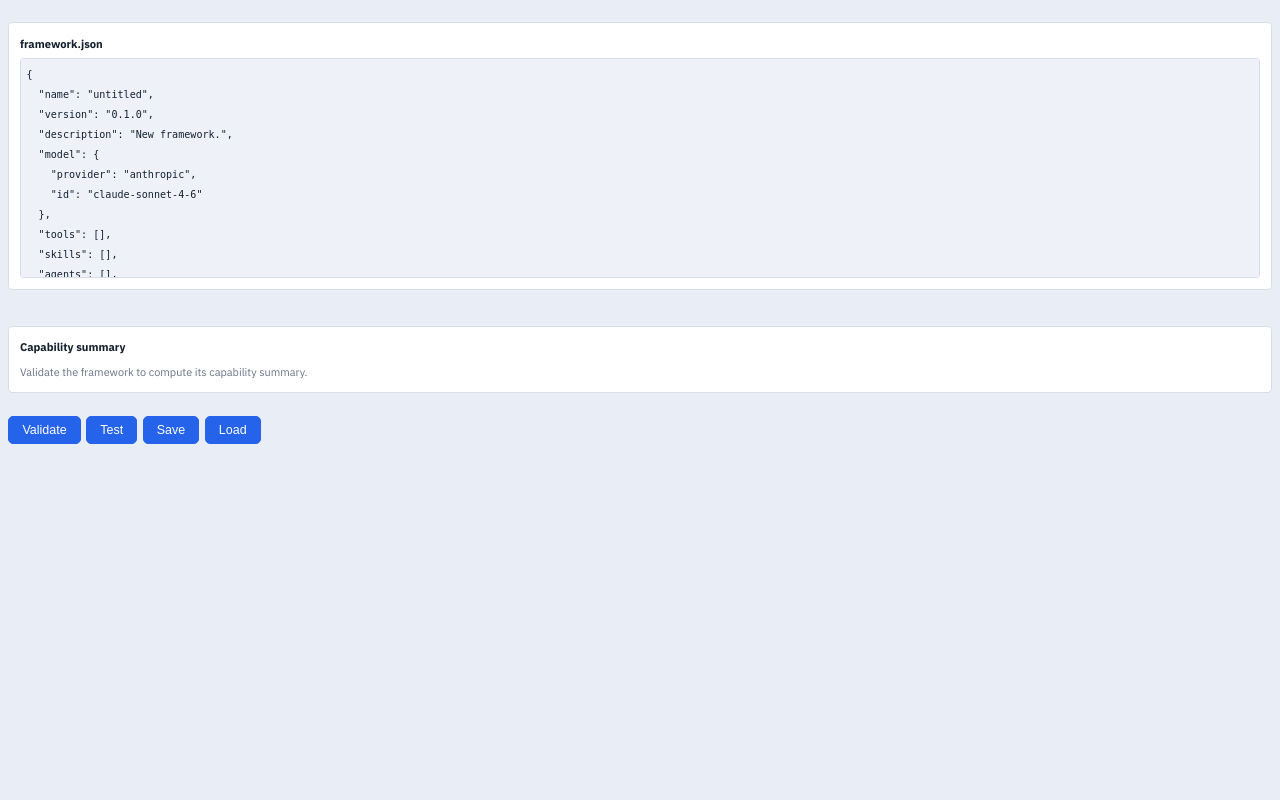
Test: Inspector › clicking_validate_calls_validateFramework_and_surfaces_the_full_report
Step 1. Click the button "Validate" → [45, 430], box [8,416,81,444]
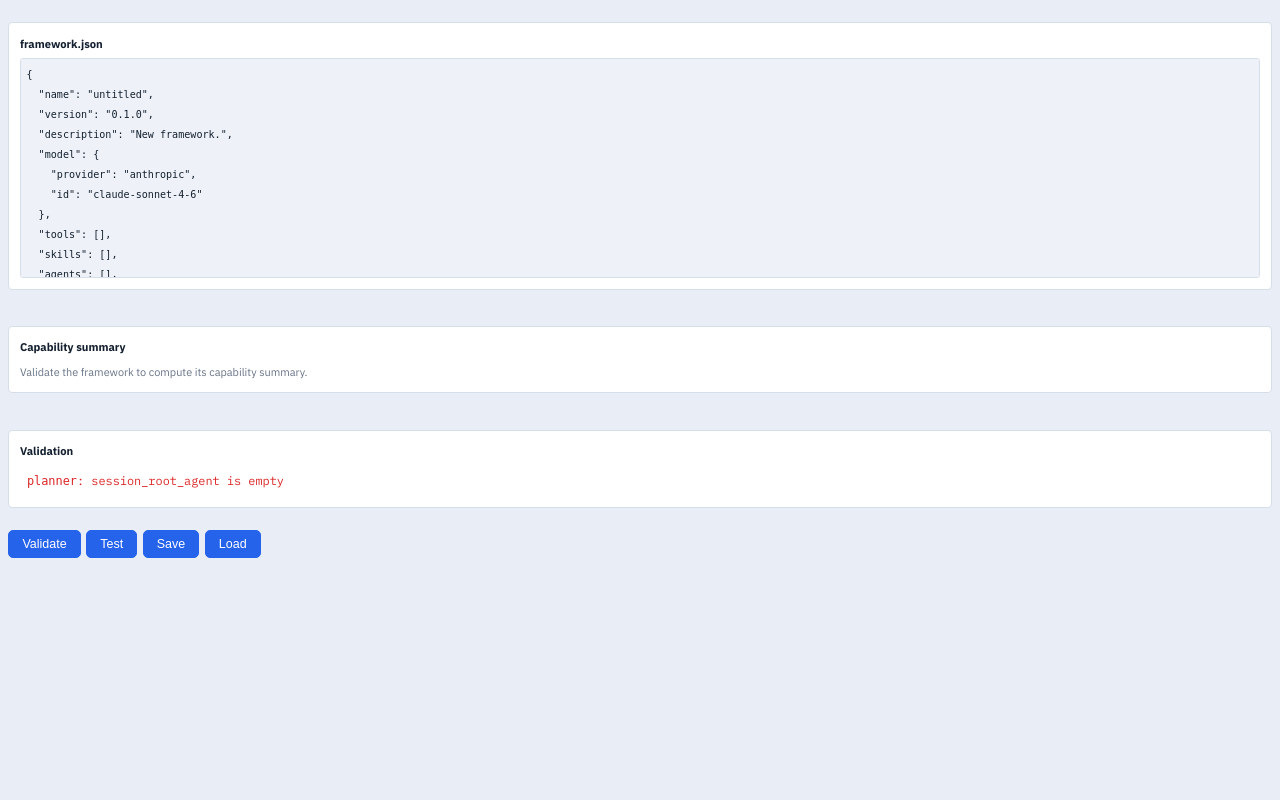
Check: the list item "planner: session_root_agent is empty" is shown, box [27,473,284,488]
